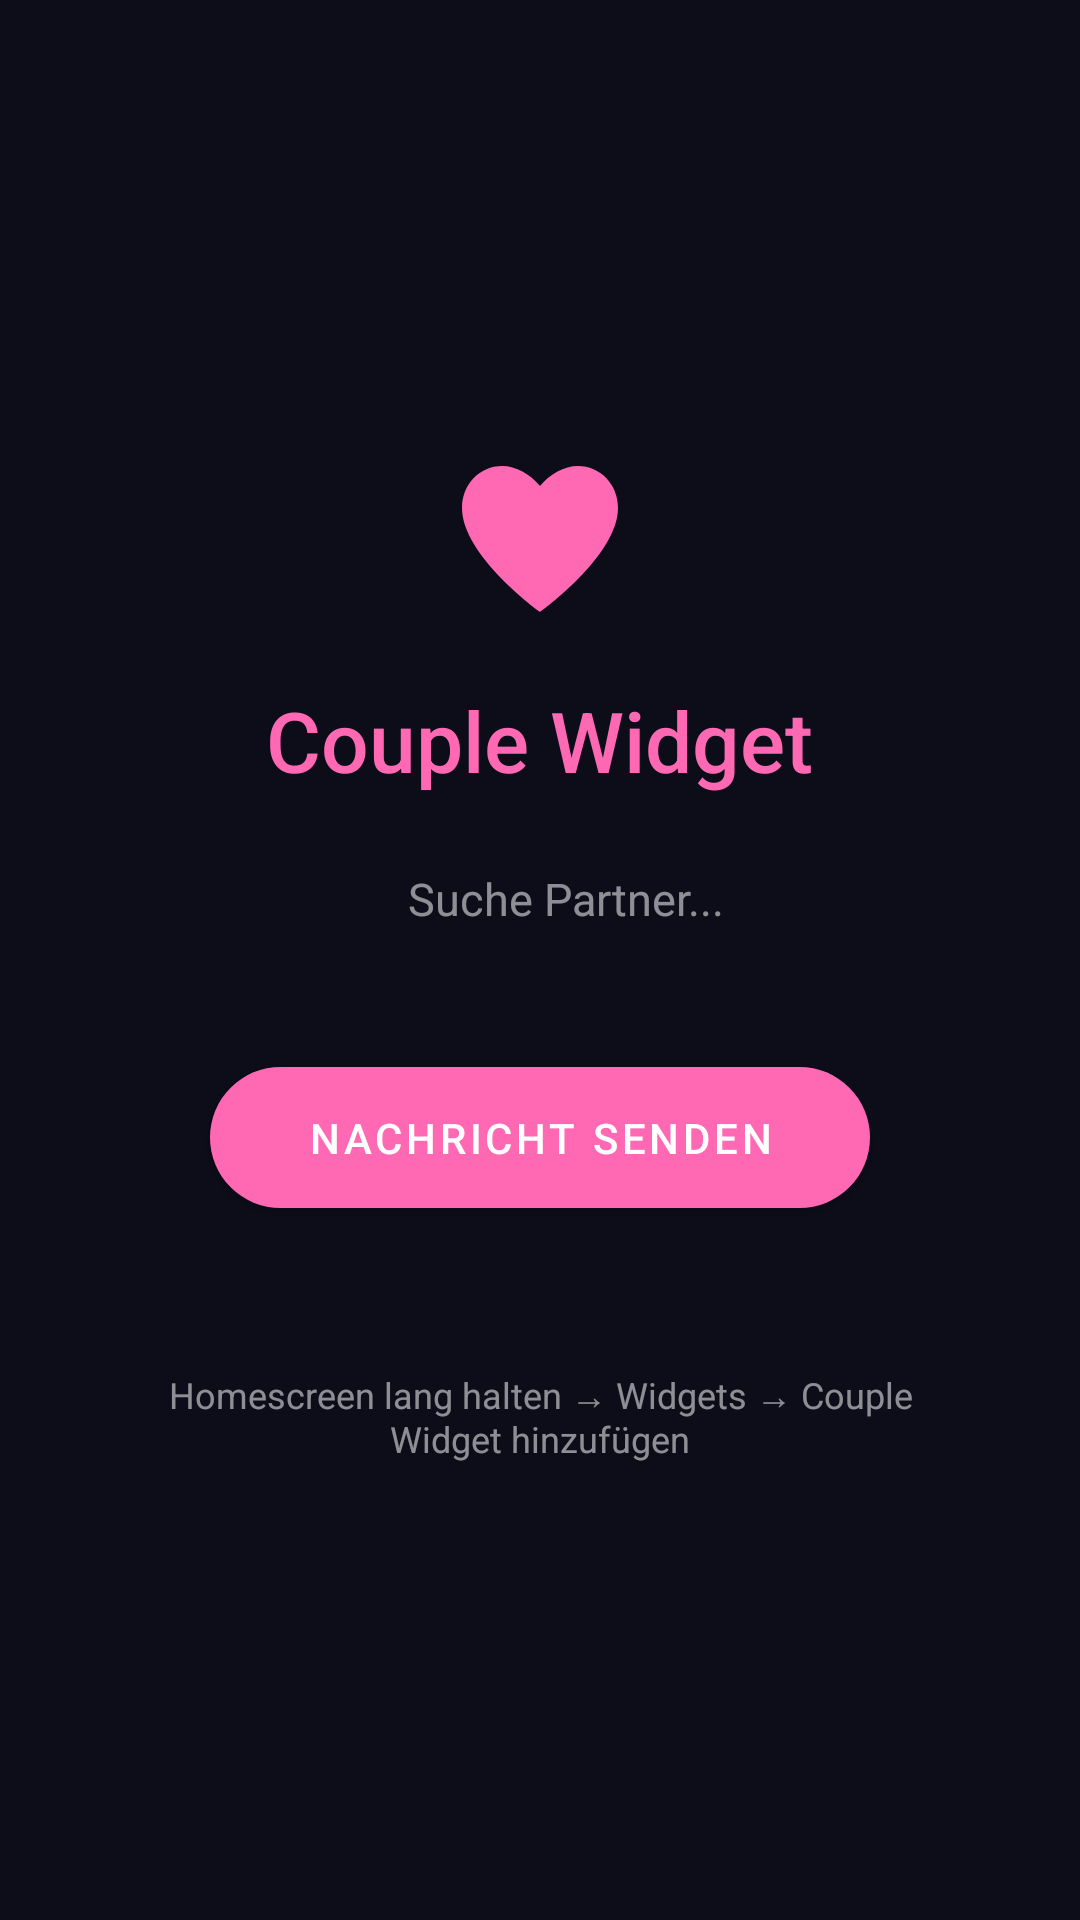

Where to tap for icons on this 1080×1920 app screen, as (x,y):
heart: (540,539)
